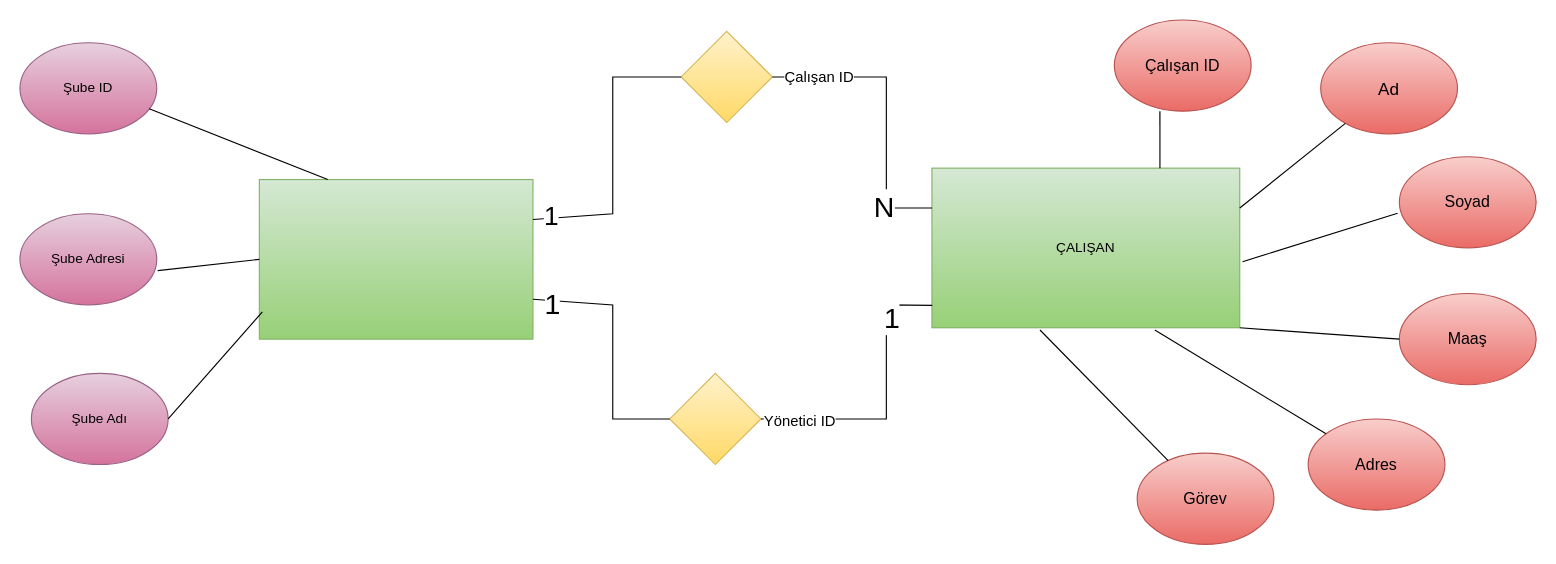
This 1556x564 diagram has some shape labels left out. The shapes that lost their labels are listed below. From the top down, each one's centre as x and y in pixels, then its label:
(726,76): ÇALIŞIR
(395,258): ŞUBE
(715,418): YÖNETİR
